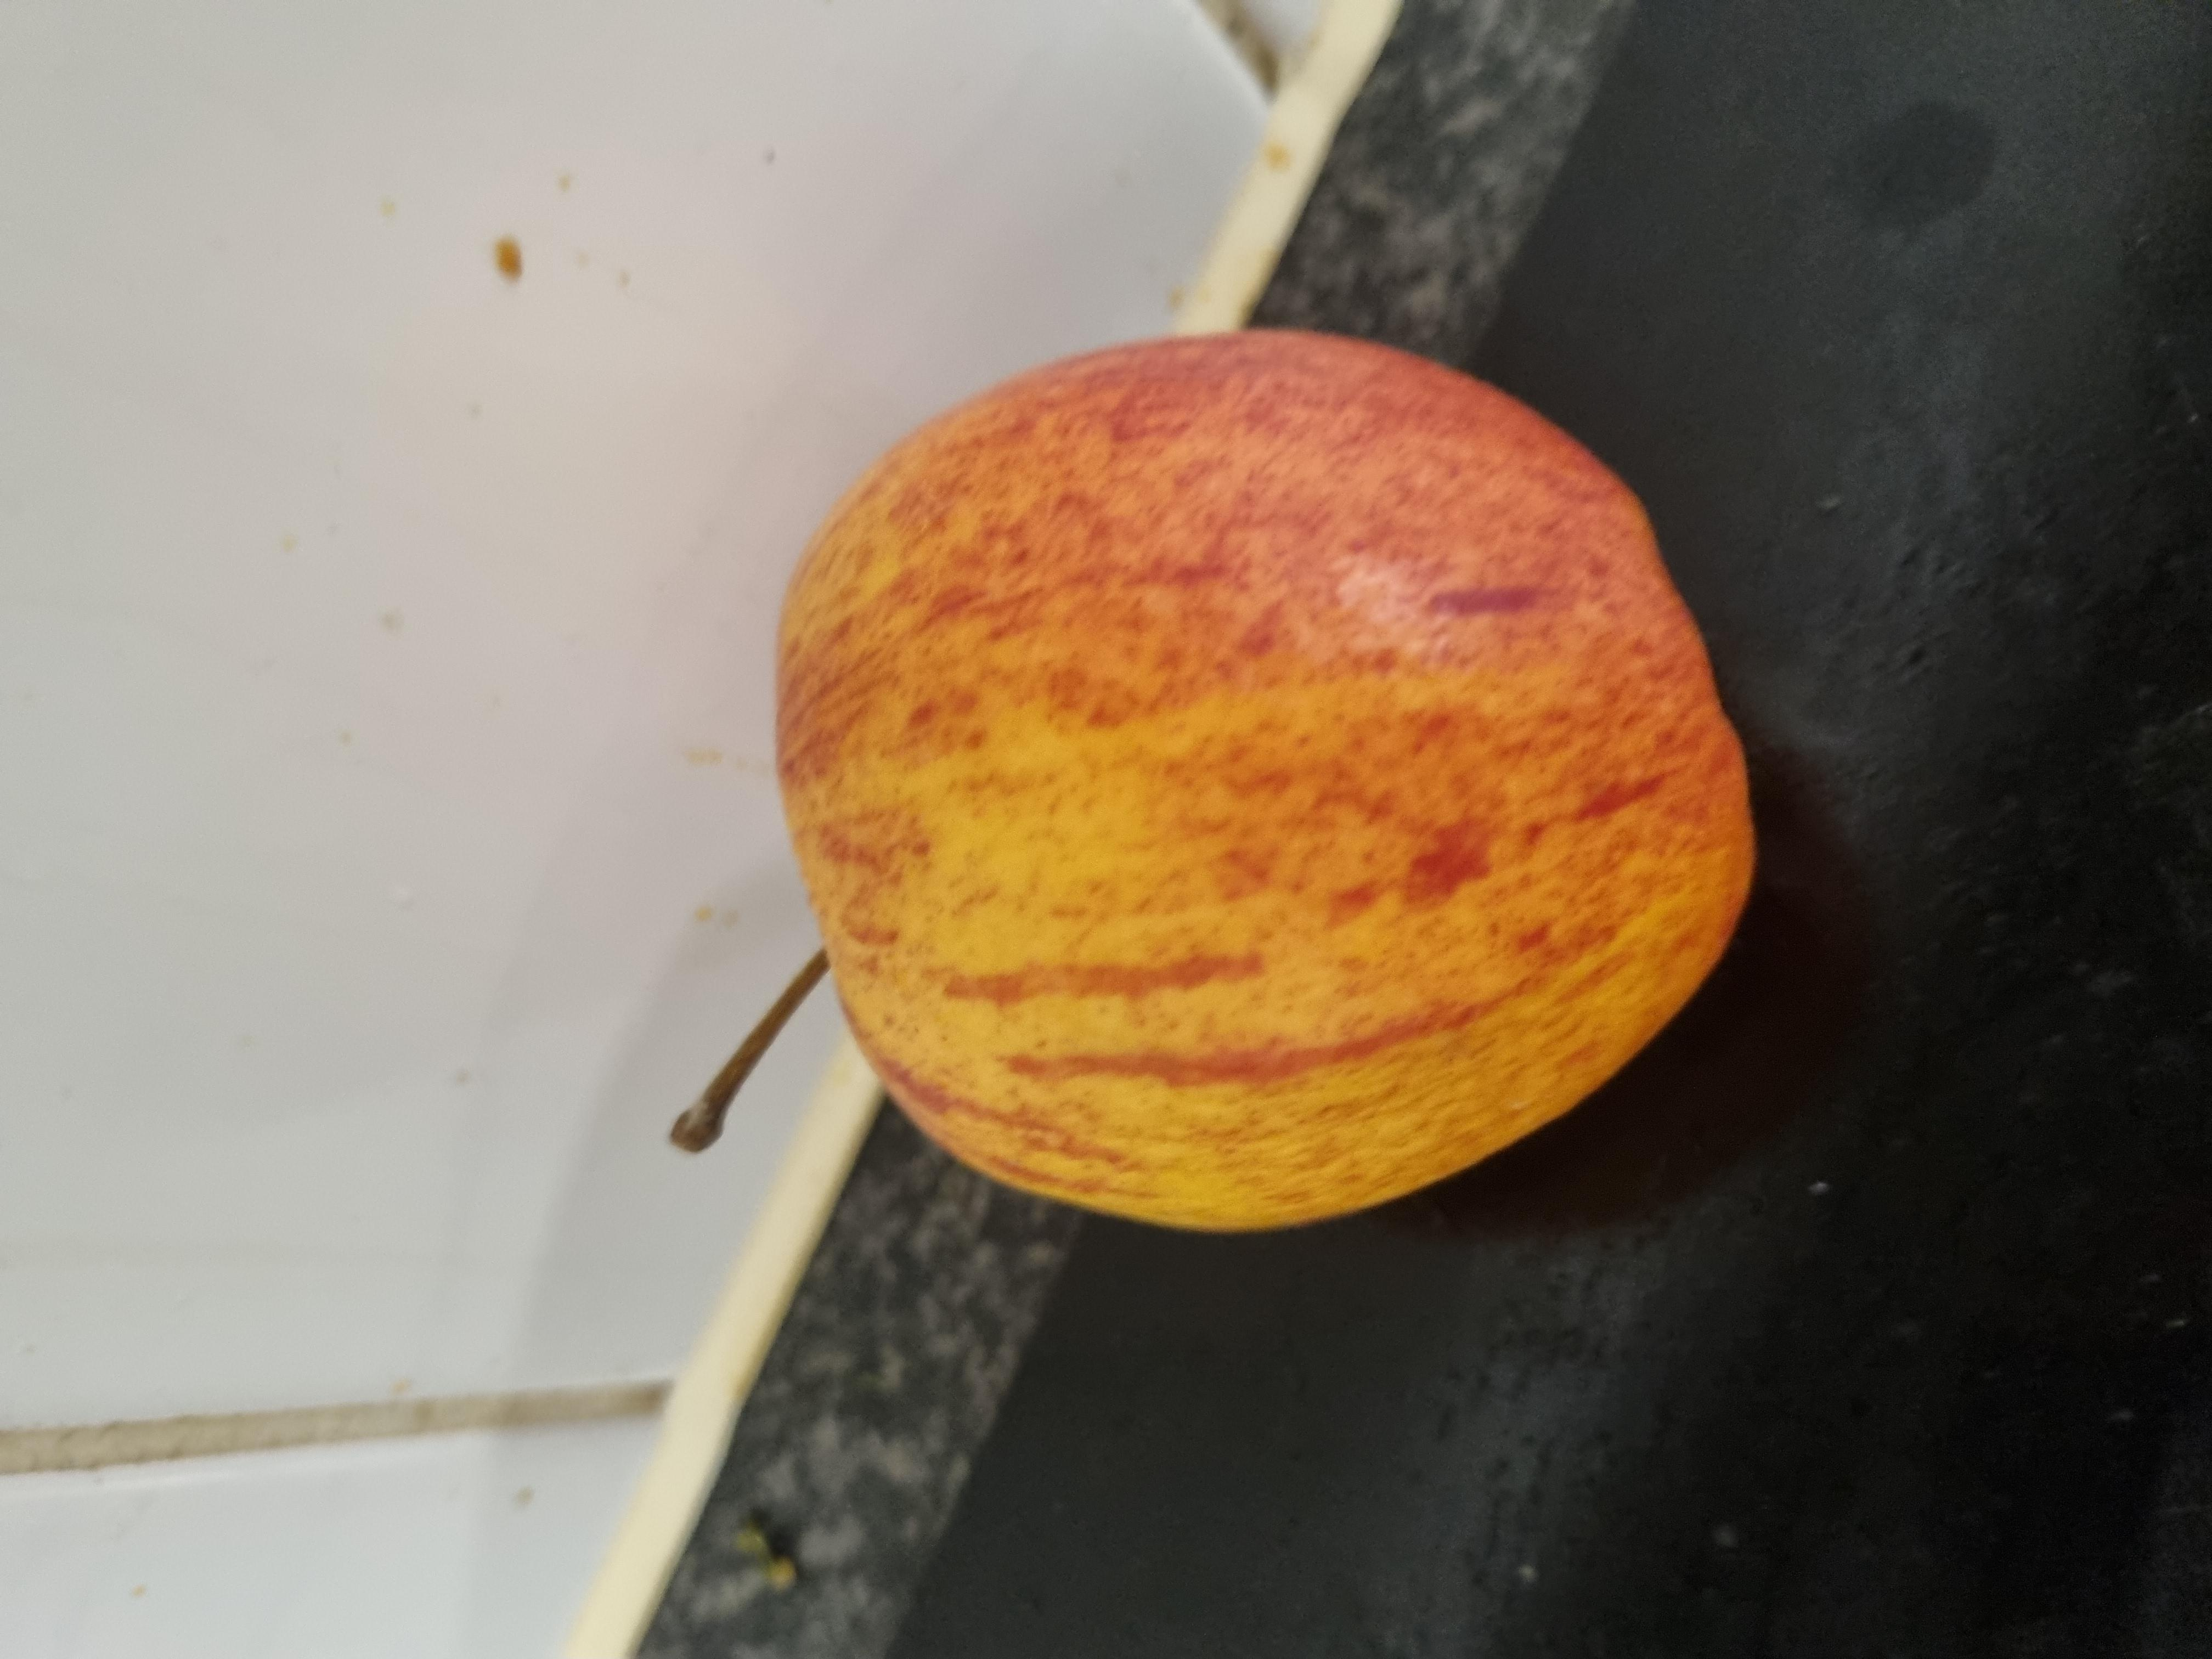Apple: (547, 469, 1804, 1312)
